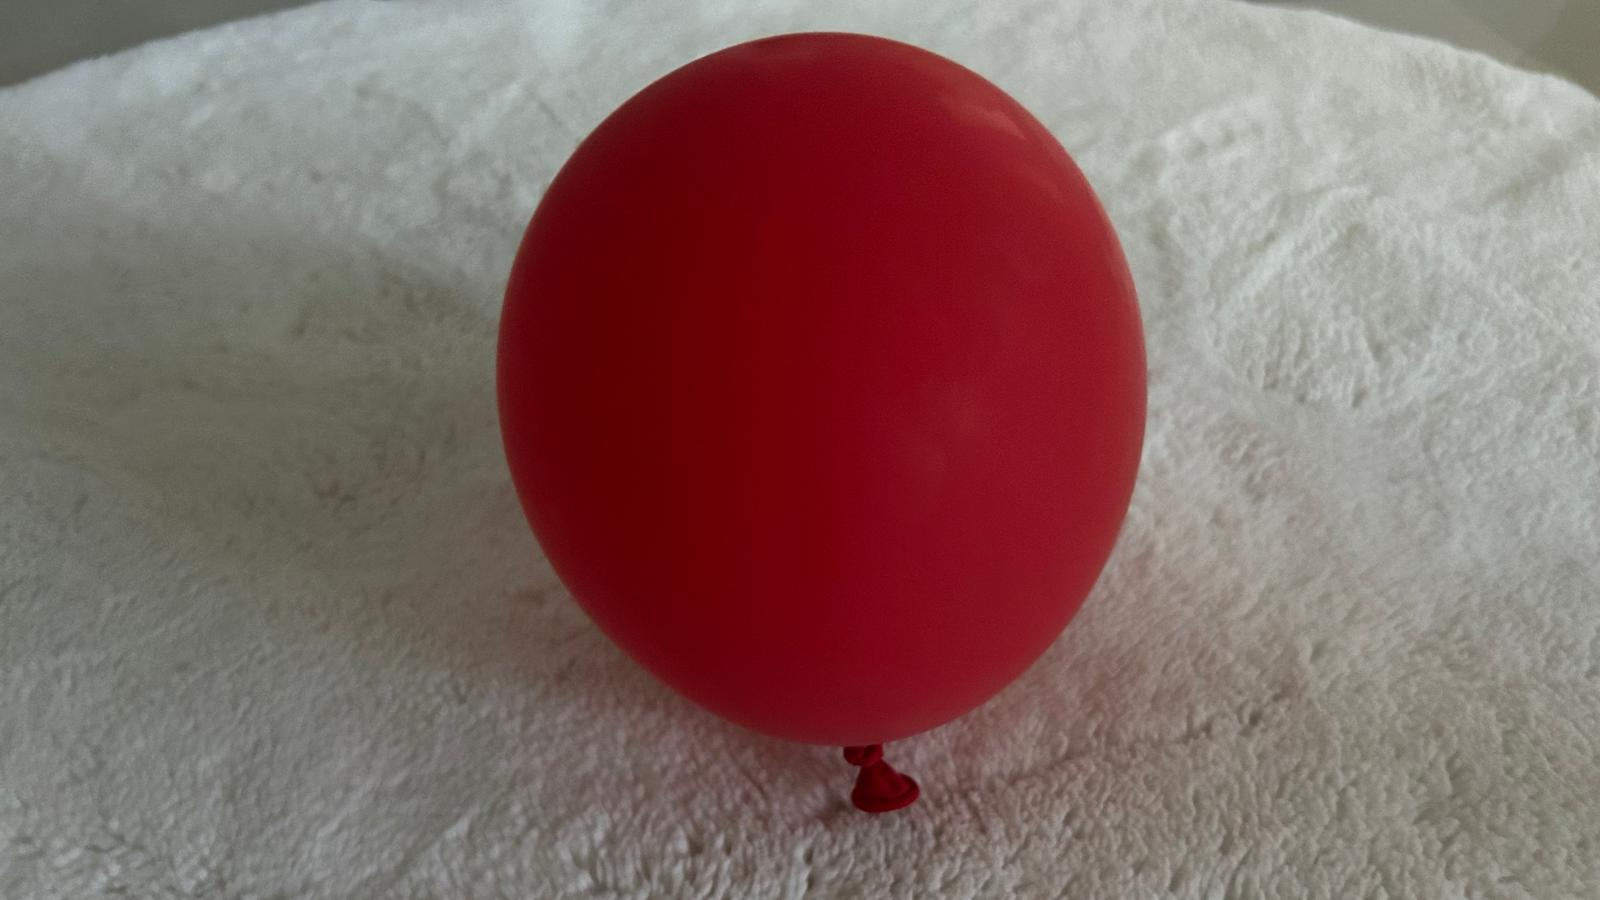red: (490, 29, 1154, 820)
